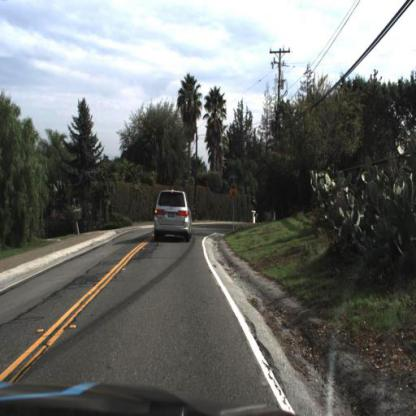car: (146, 184, 197, 249)
